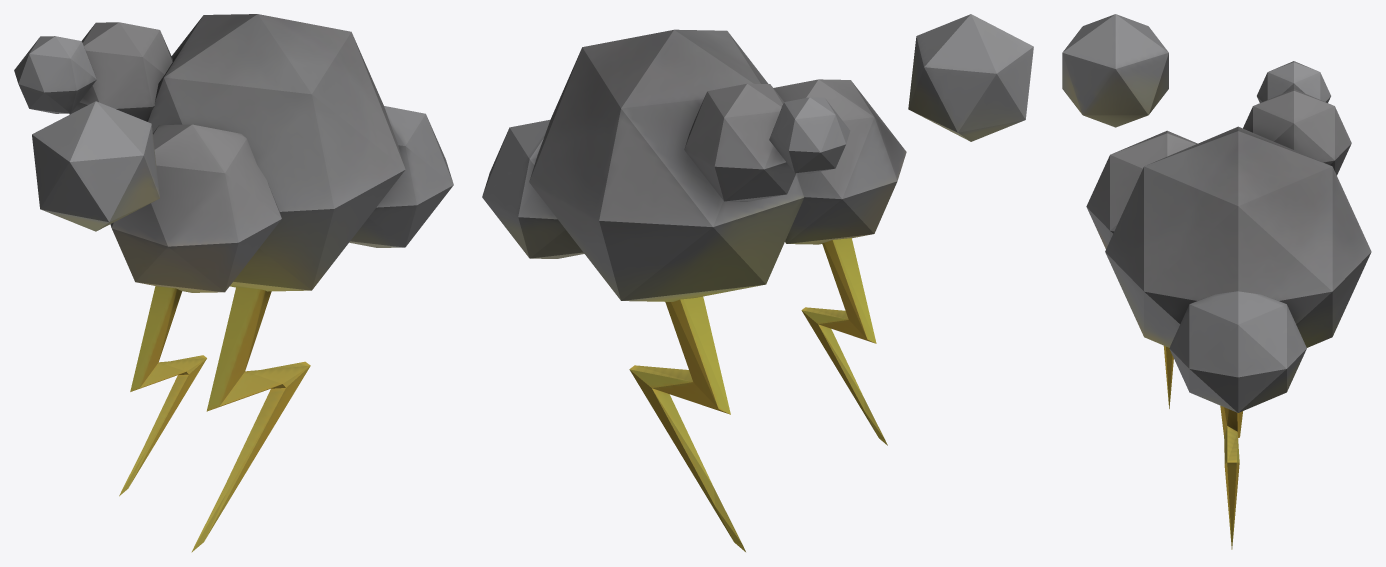
The model's file is Cloud_0.fbx.
3 renders of one model, left to right at view 1: azimuth 30°, elevation 25°; view 2: azimuth 150°, elevation 25°; view 3: azimuth 270°, elevation 25°, orthographic. The views are drawn at different scales.
Parts seen in each view (by area): view 1: Cloud_0; view 2: Cloud_0; view 3: Cloud_0.
Boxes of the visible parts, left/top/right/bottom form: Cloud_0: left=14, top=14, right=453, bottom=552; Cloud_0: left=482, top=14, right=1033, bottom=551; Cloud_0: left=1062, top=14, right=1371, bottom=549.
Size of the model in its own units: 80.27 by 87.03 by 51.89.
